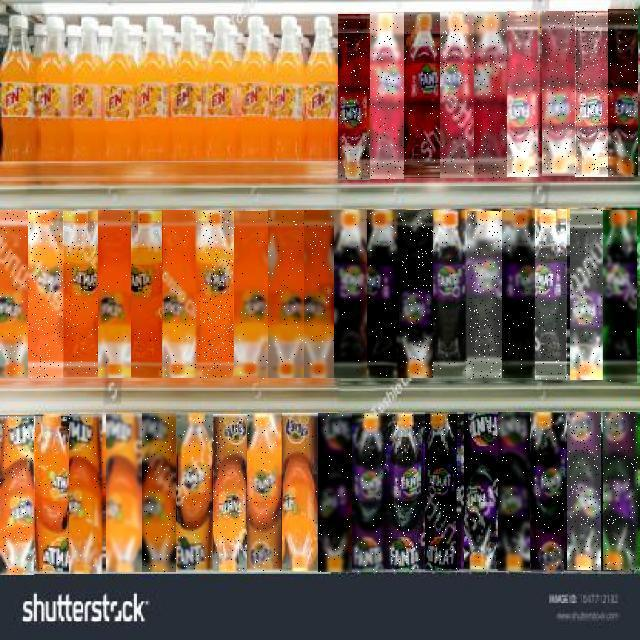Drinks: (268, 211, 304, 379), (434, 211, 470, 379), (405, 13, 441, 179), (28, 211, 63, 379), (603, 210, 637, 382), (536, 209, 570, 380), (570, 209, 604, 380), (70, 414, 106, 574), (282, 413, 318, 572), (35, 416, 71, 575), (132, 211, 166, 379), (166, 211, 200, 379), (199, 211, 233, 379), (234, 212, 268, 380), (334, 211, 368, 379), (368, 211, 402, 379), (401, 211, 435, 379), (469, 212, 503, 380), (502, 211, 536, 379), (604, 412, 640, 570), (106, 414, 142, 572), (542, 12, 576, 178), (371, 13, 405, 179), (440, 13, 474, 179), (474, 13, 508, 179), (508, 11, 542, 177), (64, 211, 98, 377), (0, 415, 35, 575), (387, 413, 422, 572), (98, 211, 131, 379), (575, 11, 608, 177), (464, 412, 498, 571), (247, 413, 281, 572), (319, 413, 353, 572), (352, 413, 386, 572), (426, 412, 460, 571), (179, 413, 213, 572), (142, 413, 176, 572), (213, 414, 247, 572), (567, 412, 601, 570), (338, 15, 370, 181), (531, 413, 564, 572), (498, 412, 530, 571), (608, 9, 638, 177), (304, 211, 334, 379), (0, 211, 28, 379)
